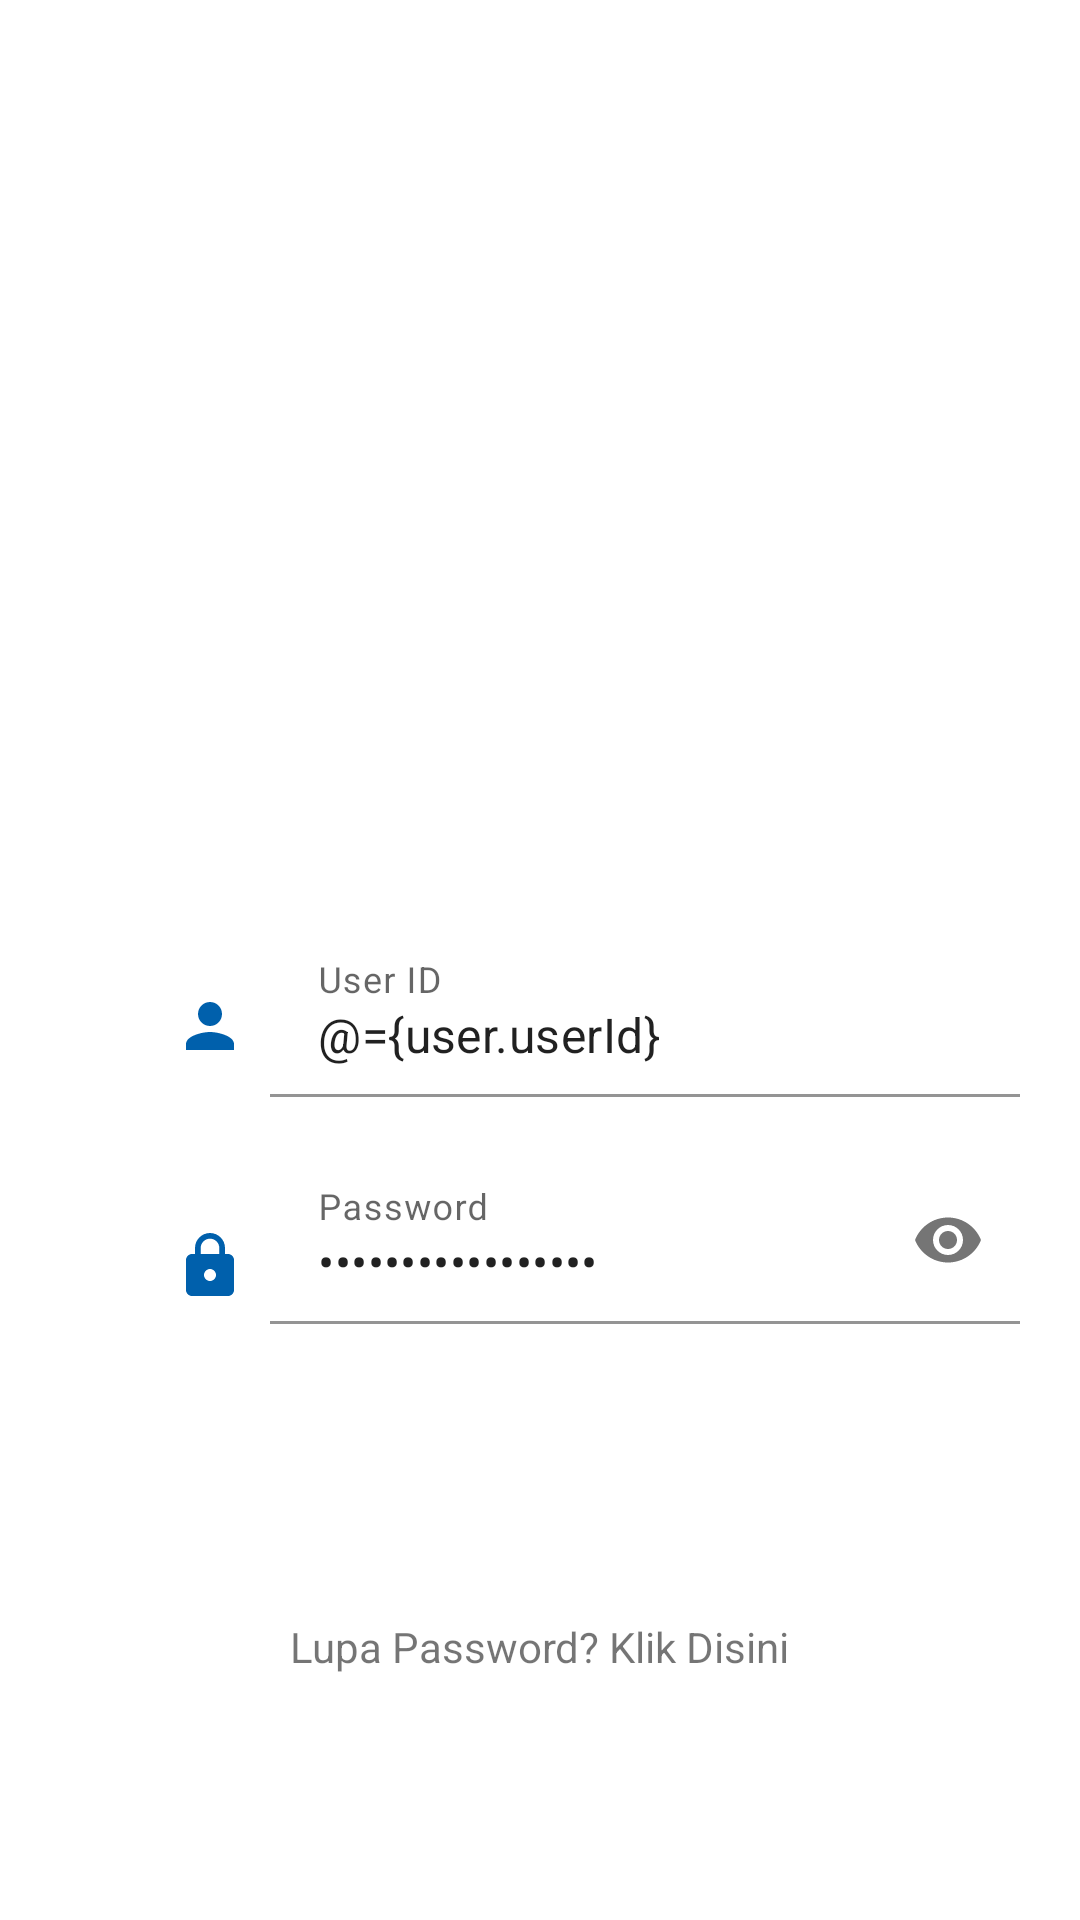

Where icons sit on this 1080 × 1920 app screen, as (x1, y1, x2, y2):
lock: (186, 1233, 234, 1296)
person: (186, 1002, 234, 1050)
